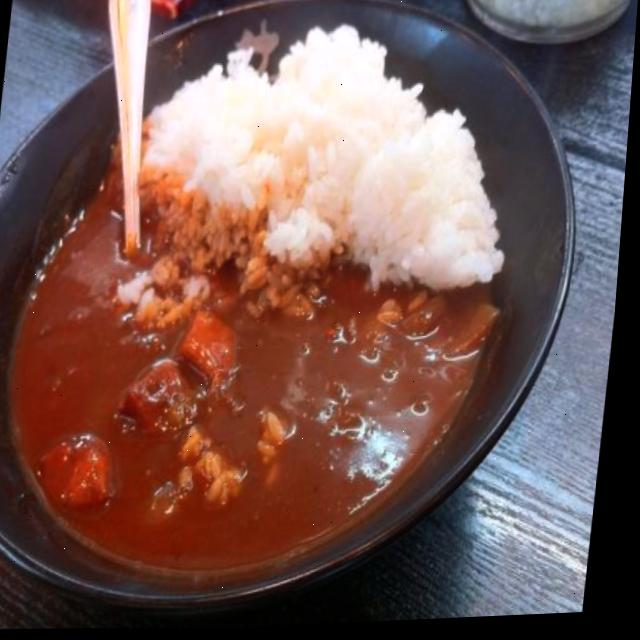牛肉菜式: (110, 0, 631, 635)
